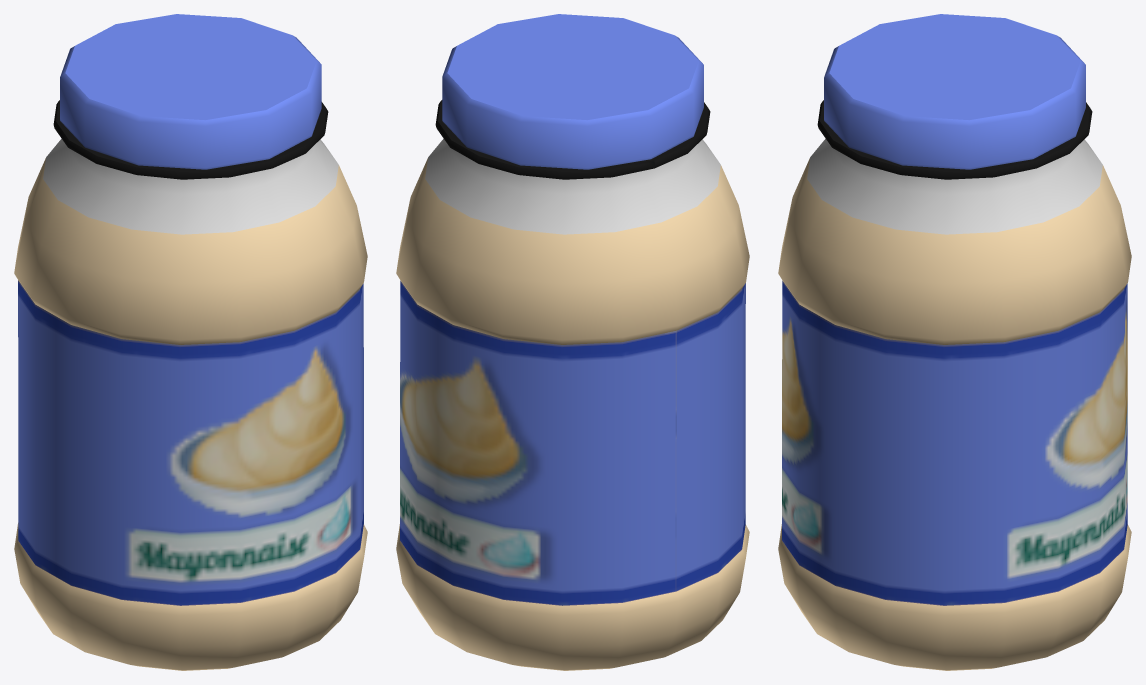
The model's file is Mayonnaise_Jar_HP.fbx.
The picture shows the model from 3 angles, left to right: view 1: azimuth 30°, elevation 25°; view 2: azimuth 150°, elevation 25°; view 3: azimuth 270°, elevation 25°; orthographic projection.
Parts seen in each view (by area): view 1: Mayonnaise_Jar_HP; view 2: Mayonnaise_Jar_HP; view 3: Mayonnaise_Jar_HP.
Boxes of the visible parts, x1,y1,x2,y2 form: Mayonnaise_Jar_HP: (14,14,367,670); Mayonnaise_Jar_HP: (396,14,749,670); Mayonnaise_Jar_HP: (778,14,1131,670).
Bounding box in the file's own units: 0.2218 × 0.3783 × 0.2207.
